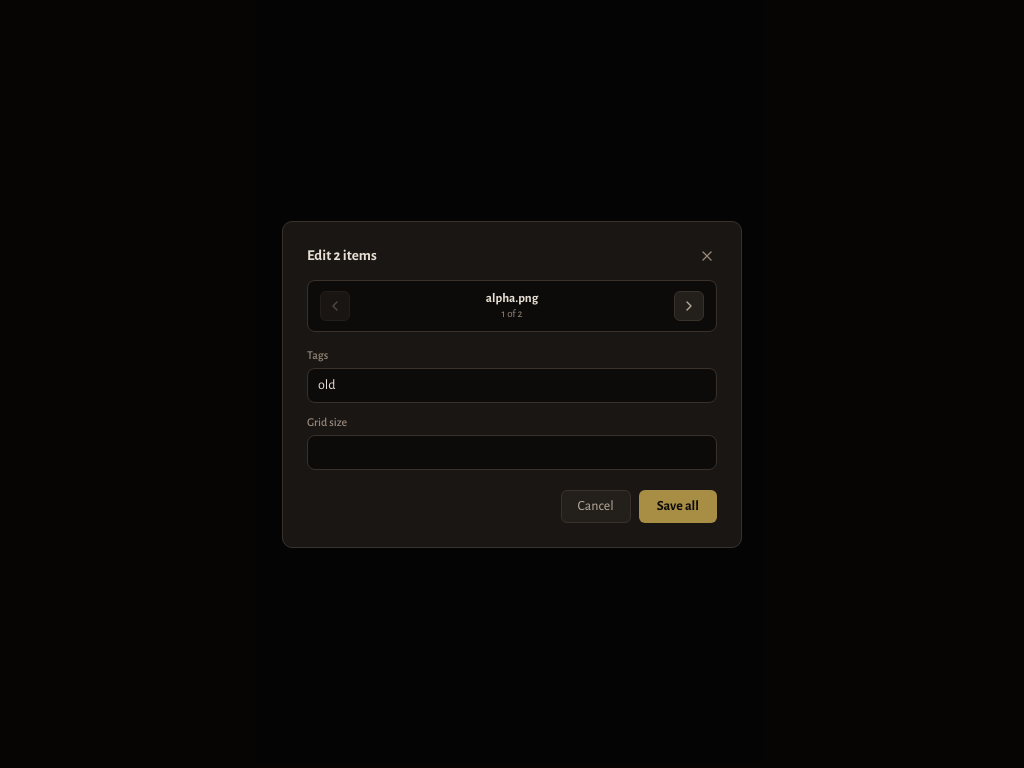
Test case: BulkEditModal › navigates through the carousel
Step 1. Click the button named "Next" → (689, 306), box 674,290 -> 704,320
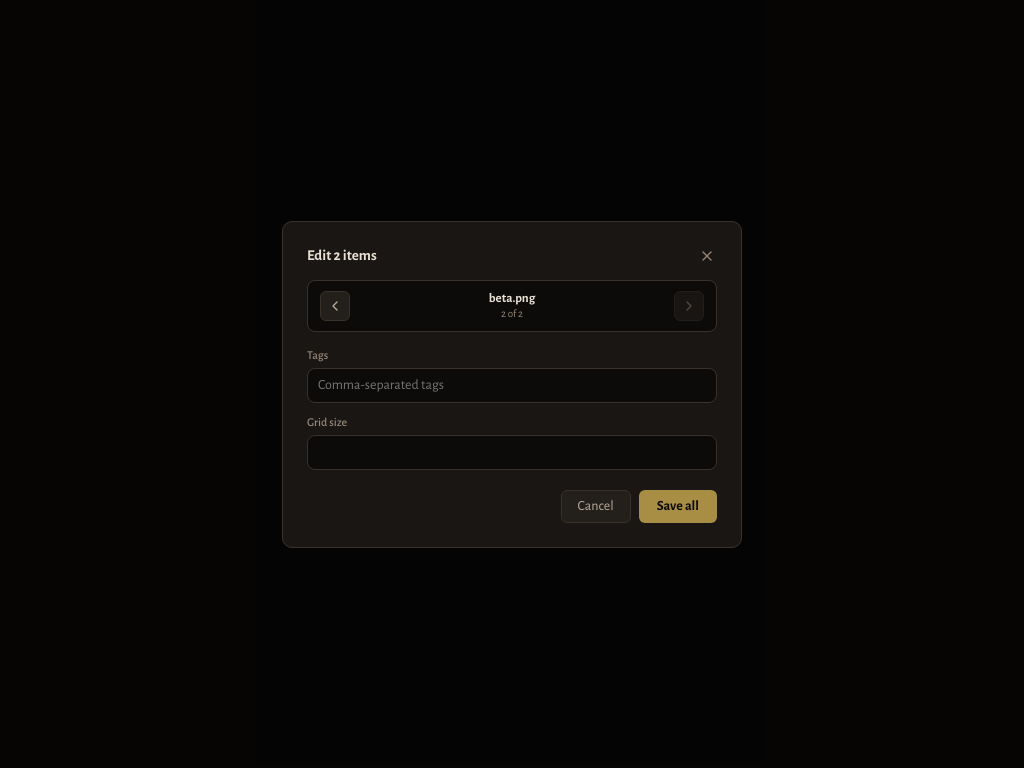
Now the text "beta.png" is shown, box 489,292 -> 535,305
Now the text "2 of 2" is shown, box 501,308 -> 523,319
